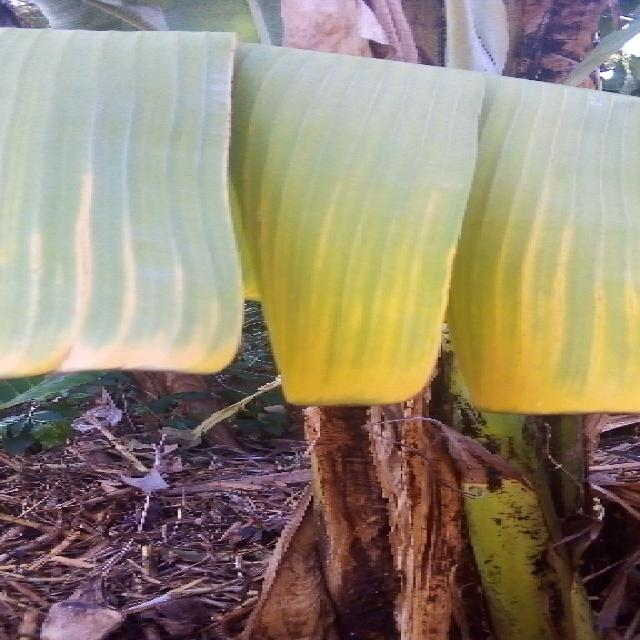Cordana: (0, 23, 640, 388)
